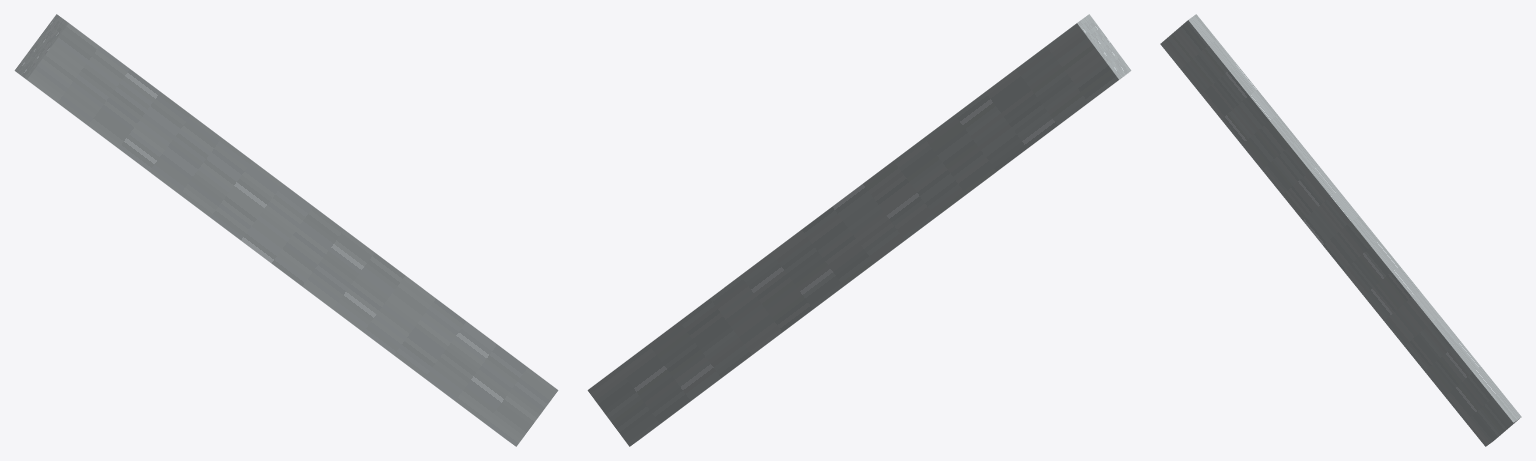
Rendered from galvanized_leaf_1_strut_a.obj.
3 renders of one model, left to right at view 1: azimuth 30°, elevation 25°; view 2: azimuth 150°, elevation 25°; view 3: azimuth 330°, elevation 25°, orthographic. The views are drawn at different scales.
Parts seen in each view (by area): view 1: galvanized_leaf_1_strut_a; view 2: galvanized_leaf_1_strut_a; view 3: galvanized_leaf_1_strut_a.
Part boxes in pixels (left/top/right/bottom): galvanized_leaf_1_strut_a: left=14, top=14, right=558, bottom=446; galvanized_leaf_1_strut_a: left=587, top=14, right=1131, bottom=446; galvanized_leaf_1_strut_a: left=1160, top=14, right=1521, bottom=446.
Bounding box in the file's own units: 0.543 × 0.5203 × 0.0219.
